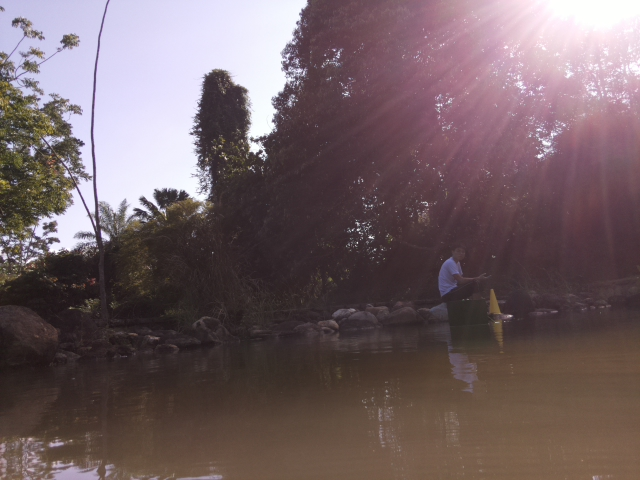checkpoint: (487, 287, 504, 321)
obstacle: (446, 297, 489, 329)
